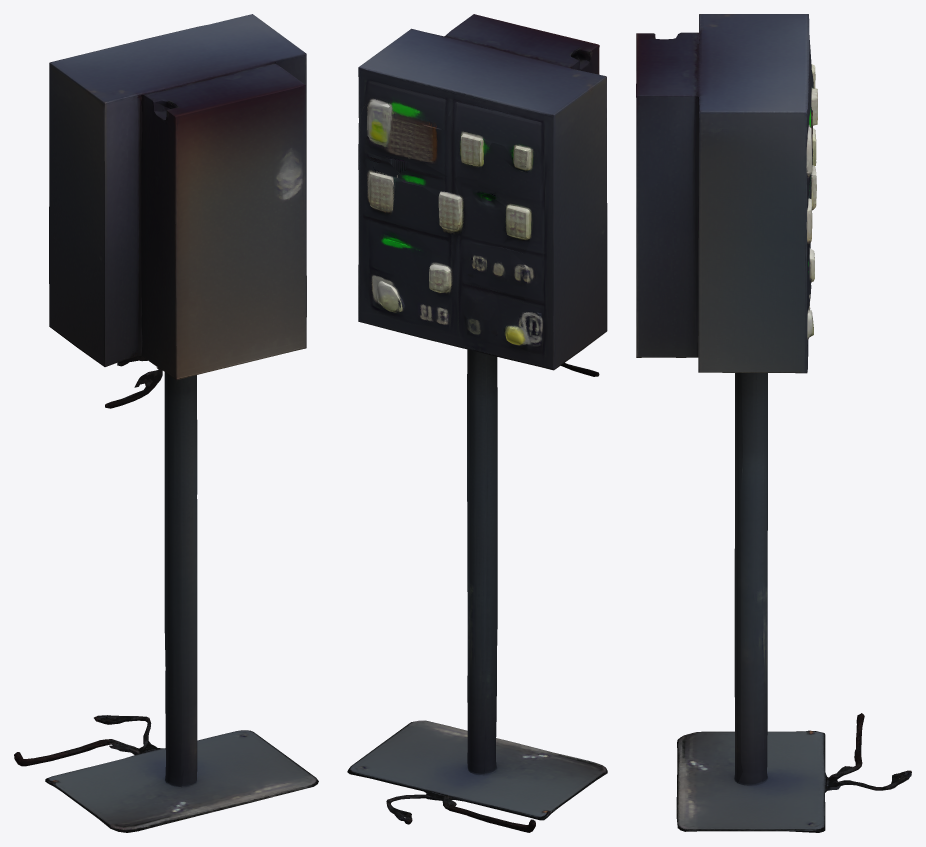
3 renders of one model, left to right at view 1: azimuth 30°, elevation 25°; view 2: azimuth 150°, elevation 25°; view 3: azimuth 270°, elevation 25°, orthographic. The views are drawn at different scales.
Parts seen in each view (by area): view 1: geometry_0; view 2: geometry_0; view 3: geometry_0.
Part boxes in pixels (x1,y1,x2,y2): geometry_0: [14, 14, 318, 832]; geometry_0: [347, 14, 607, 832]; geometry_0: [636, 14, 911, 832].
Bounding box in the file's own units: 0.3118 × 1 × 0.3472.
1 material, 1 textured.
